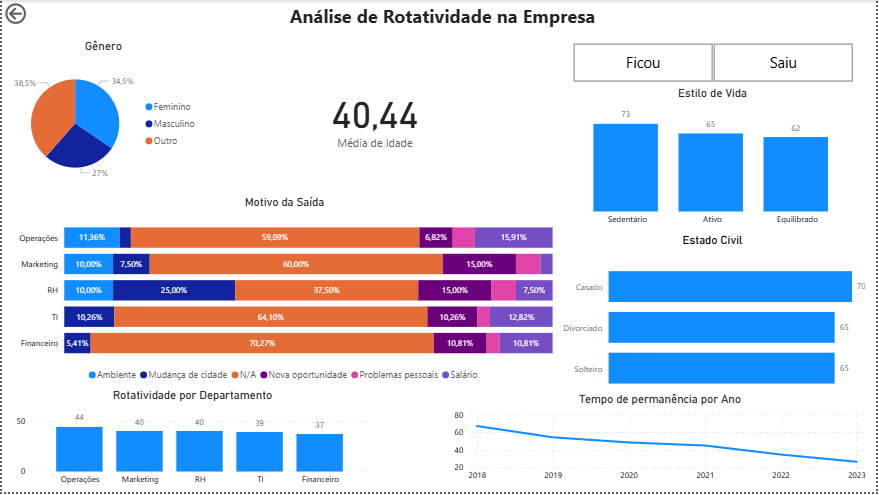

The dashboard page shown, as its layout file describes it:
{"tool":"powerbi","page":{"name":"Página 1","canvas":[1280,720],"ordinal":0},"visuals":[{"type":"card","title":"Média de Idade","fields":{"Values":["Avg(rotatividade_funcionarios.Idade)"]},"box":[405.4,57.1,281,228.3],"z":0},{"type":"pieChart","title":"Gênero ","fields":{"Series":["rotatividade_funcionarios.Gênero"],"Y":["CountNonNull(rotatividade_funcionarios.Ficou ou Saiu)"]},"box":[0,57.1,297.1,228.3],"z":1000},{"type":"slicer","fields":{"Values":["rotatividade_funcionarios.Ficou ou Saiu"]},"box":[810.7,57.1,458,68.8],"z":2000},{"type":"columnChart","title":"Estilo de Vida","fields":{"Category":["rotatividade_funcionarios.Estilo de Vida"],"Y":["CountNonNull(rotatividade_funcionarios.Ficou ou Saiu)"]},"box":[810.7,125.9,458,213.7],"z":3000},{"type":"textbox","box":[16.1,0,1264.4,57.1],"z":4000},{"type":"barChart","title":"Estado Civil","fields":{"Category":["rotatividade_funcionarios.Estado Civil"],"Y":["CountNonNull(rotatividade_funcionarios.Ficou ou Saiu)"]},"box":[810.7,341,458,251.7],"z":5000},{"type":"hundredPercentStackedBarChart","title":"Motivo da Saída","fields":{"Series":["rotatividade_funcionarios.Motivo da Saída"],"Category":["rotatividade_funcionarios.Departamento"],"Y":["CountNonNull(rotatividade_funcionarios.Motivo da Saída)"]},"box":[16.1,285.4,794.6,282.4],"z":6000},{"type":"actionButton","box":[0,0,100,40],"z":7000},{"type":"columnChart","title":"Rotatividade por Departamento","fields":{"Category":["rotatividade_funcionarios.Departamento"],"Y":["CountNonNull(rotatividade_funcionarios.Ficou ou Saiu)"]},"box":[16.1,567.8,525.4,152.2],"z":8000},{"type":"lineChart","title":"Tempo de permanência por Ano","fields":{"Y":["rotatividade_funcionarios.Media de tempo de permanencia"],"Category":["rotatividade_funcionarios.Data de Admissão.Variation.Hierarquia de datas.Ano"]},"box":[657.1,573.7,611.7,140.5],"z":9000}]}

Visuals, with their boxes in screenshot pixels (x1, y1, x2, y2), scaled from the page's 1280x720 canvas onto the 879x495 screenshot:
"Média de Idade" card: crop(278, 39, 471, 196)
"Gênero " pieChart: crop(0, 39, 204, 196)
slicer - rotatividade_funcionarios.Ficou ou Saiu: crop(557, 39, 871, 87)
"Estilo de Vida" columnChart: crop(557, 87, 871, 233)
textbox: crop(11, 0, 878, 39)
"Estado Civil" barChart: crop(557, 234, 871, 407)
"Motivo da Saída" hundredPercentStackedBarChart: crop(11, 196, 557, 390)
actionButton: crop(0, 0, 69, 28)
"Rotatividade por Departamento" columnChart: crop(11, 390, 372, 494)
"Tempo de permanência por Ano" lineChart: crop(451, 394, 871, 491)
